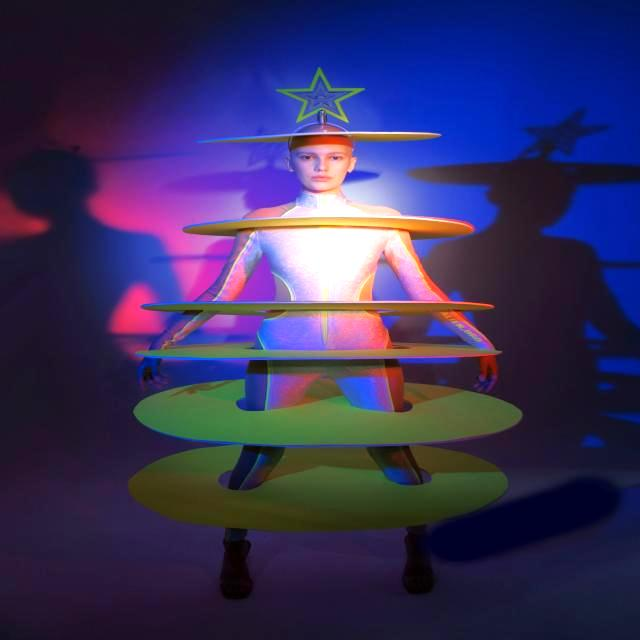no_hard_hat: (169, 55, 449, 150)
person: (126, 122, 517, 622)
